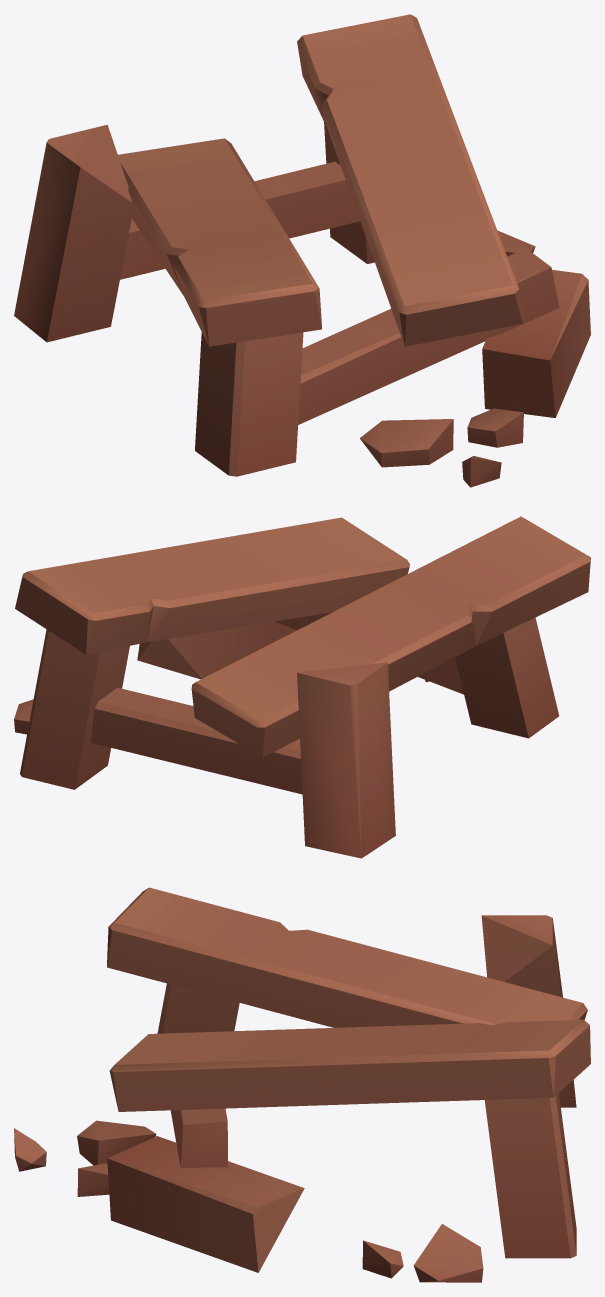
The model's file is table-medium-broken-gltf.glb.
The picture shows the model from 3 angles, top to bottom: view 1: azimuth 30°, elevation 25°; view 2: azimuth 150°, elevation 25°; view 3: azimuth 270°, elevation 25°; orthographic projection. The views are drawn at different scales.
Visible parts, largest first — view 1: table_medium_broken; view 2: table_medium_broken; view 3: table_medium_broken.
Boxes of the visible parts, x1,y1,x2,y2 form: table_medium_broken: (14,14,590,487); table_medium_broken: (14,516,590,858); table_medium_broken: (14,887,590,1282).
Size of the model in its own units: 2.28 by 0.9718 by 2.43.
Materials: 1 (1 with a texture image).
